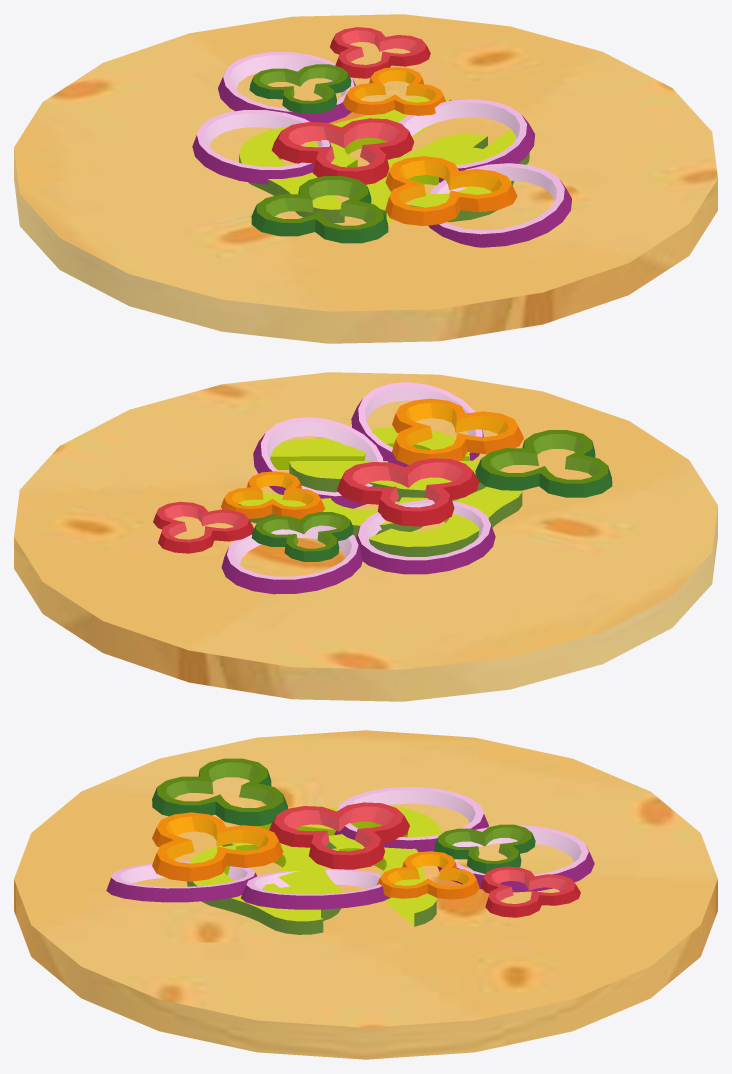
File: taco_Cebolla_Aguacate_Pimiento.glb
3 renders of one model, top to bottom at view 1: azimuth 30°, elevation 25°; view 2: azimuth 150°, elevation 25°; view 3: azimuth 270°, elevation 25°, orthographic.
Parts seen in each view (by area): view 1: tortilla.002, Pepper_Slice_Pepper_0, Pepper_Slice_Pepper_0.001, Avocado_Slice_Avocado_0, Onion_Slice_Onion_0.001, Onion_Slice_Onion_0; view 2: tortilla.002, Pepper_Slice_Pepper_0, Avocado_Slice_Avocado_0, Pepper_Slice_Pepper_0.001, Onion_Slice_Onion_0, Onion_Slice_Onion_0.001; view 3: tortilla.002, Pepper_Slice_Pepper_0, Avocado_Slice_Avocado_0, Pepper_Slice_Pepper_0.001, Onion_Slice_Onion_0.001, Onion_Slice_Onion_0.
Boxes of the visible parts, box(x1,y1,x2,y2) form: tortilla.002: box(14, 14, 717, 343); Pepper_Slice_Pepper_0: box(251, 118, 517, 243); Pepper_Slice_Pepper_0.001: box(249, 27, 445, 115); Avocado_Slice_Avocado_0: box(239, 97, 529, 223); Onion_Slice_Onion_0.001: box(388, 99, 571, 247); Onion_Slice_Onion_0: box(192, 52, 355, 184); tortilla.002: box(14, 372, 717, 701); Pepper_Slice_Pepper_0: box(337, 398, 612, 526); Avocado_Slice_Avocado_0: box(238, 427, 522, 556); Pepper_Slice_Pepper_0.001: box(153, 471, 353, 561); Onion_Slice_Onion_0: box(221, 500, 495, 594); Onion_Slice_Onion_0.001: box(253, 382, 483, 508); tortilla.002: box(14, 730, 717, 1059); Pepper_Slice_Pepper_0: box(152, 758, 409, 881); Avocado_Slice_Avocado_0: box(187, 805, 442, 934); Pepper_Slice_Pepper_0.001: box(377, 824, 580, 917); Onion_Slice_Onion_0.001: box(106, 861, 390, 909); Onion_Slice_Onion_0: box(334, 786, 594, 892).
Size of the model in its own units: 0.2118 by 0.0248 by 0.2118.
Materials: 4 (4 with a texture image).
